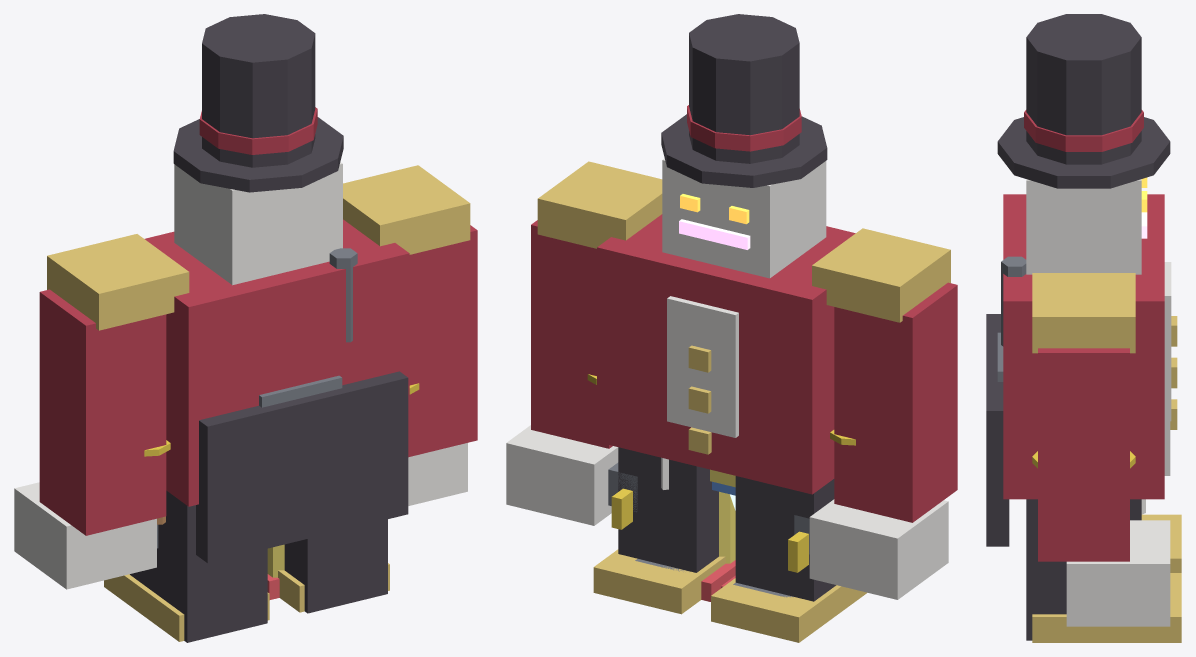
The model's file is map_monsters.glb.
3 renders of one model, left to right at view 1: azimuth 30°, elevation 25°; view 2: azimuth 150°, elevation 25°; view 3: azimuth 270°, elevation 25°, orthographic. The views are drawn at different scales.
Visible parts, largest first — view 1: ringmaster_body, ringmaster_armL, ringmaster_head, ringmaster_armR, ringmaster_legL, ringmaster_legR, scrapbot_body, clown_legR; view 2: ringmaster_body, ringmaster_armL, ringmaster_head, ringmaster_armR, ringmaster_legR, ringmaster_legL, clown_legR, scrapbot_armR, scrapbot_armL; view 3: ringmaster_armR, ringmaster_head, ringmaster_body, ringmaster_legR, scrapbot_body, ringmaster_legL, ringmaster_armL.
Boxes of the visible parts, x1,y1,x2,y2 form: ringmaster_body: (145, 219, 409, 563); ringmaster_armL: (14, 234, 189, 589); ringmaster_head: (173, 14, 343, 285); ringmaster_armR: (343, 165, 477, 505); ringmaster_legL: (104, 490, 269, 642); ringmaster_legR: (278, 519, 389, 613); scrapbot_body: (259, 248, 357, 407); clown_legR: (267, 544, 284, 599); ringmaster_body: (597, 214, 855, 494); ringmaster_armL: (809, 228, 957, 599); ringmaster_head: (661, 14, 827, 278); ringmaster_armR: (506, 161, 662, 525); ringmaster_legR: (593, 447, 725, 614); ringmaster_legL: (711, 476, 867, 642); clown_legR: (701, 491, 735, 601); scrapbot_armR: (608, 462, 637, 529); scrapbot_armL: (788, 515, 809, 572); ringmaster_armR: (1032, 273, 1170, 626); ringmaster_head: (997, 14, 1170, 274); ringmaster_body: (986, 194, 1177, 546); ringmaster_legR: (1026, 499, 1181, 642); scrapbot_body: (997, 256, 1026, 381); ringmaster_legL: (1141, 514, 1181, 572); ringmaster_armL: (1164, 421, 1170, 475).
Bounding box in the file's own units: 4 × 5.32 × 1.7.
